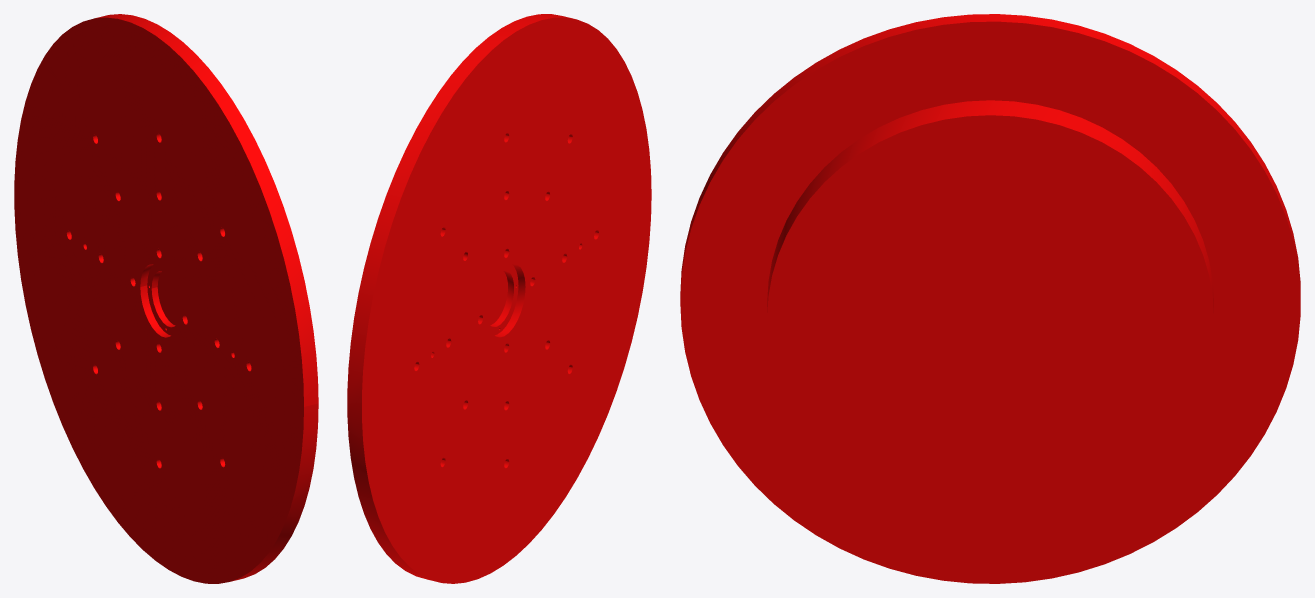
Rendered from Idler_Faceplate_P4.dae.
The picture shows the model from 3 angles, left to right: view 1: azimuth 30°, elevation 25°; view 2: azimuth 150°, elevation 25°; view 3: azimuth 270°, elevation 25°; orthographic projection. The views are drawn at different scales.
Parts seen in each view (by area): view 1: Node_000001C9CAEAC230; view 2: Node_000001C9CAEAC230; view 3: Node_000001C9CAEAC230.
Part boxes in pixels (<box>): Node_000001C9CAEAC230: <box>14,14,318,583</box>; Node_000001C9CAEAC230: <box>347,14,651,583</box>; Node_000001C9CAEAC230: <box>680,14,1300,583</box>.
Bounding box in the file's own units: 0.086 × 0.9998 × 0.9995.
